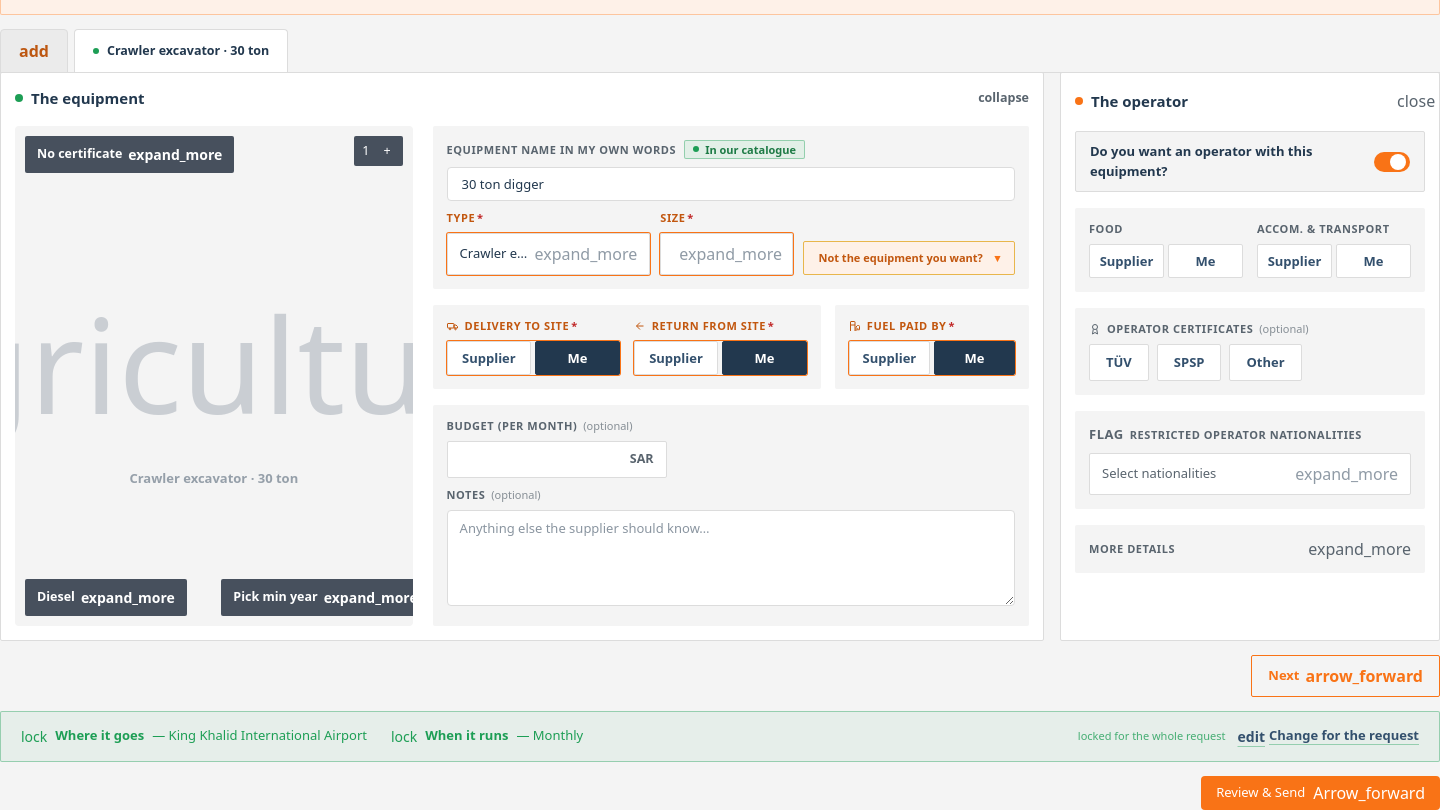
it: the operator rail, never opened › does not shake an item whose agent already asked for an operator
(page scrolled)
Click the button "Review & send arrow_forward": (1321, 792) [1201,776,1439,809]
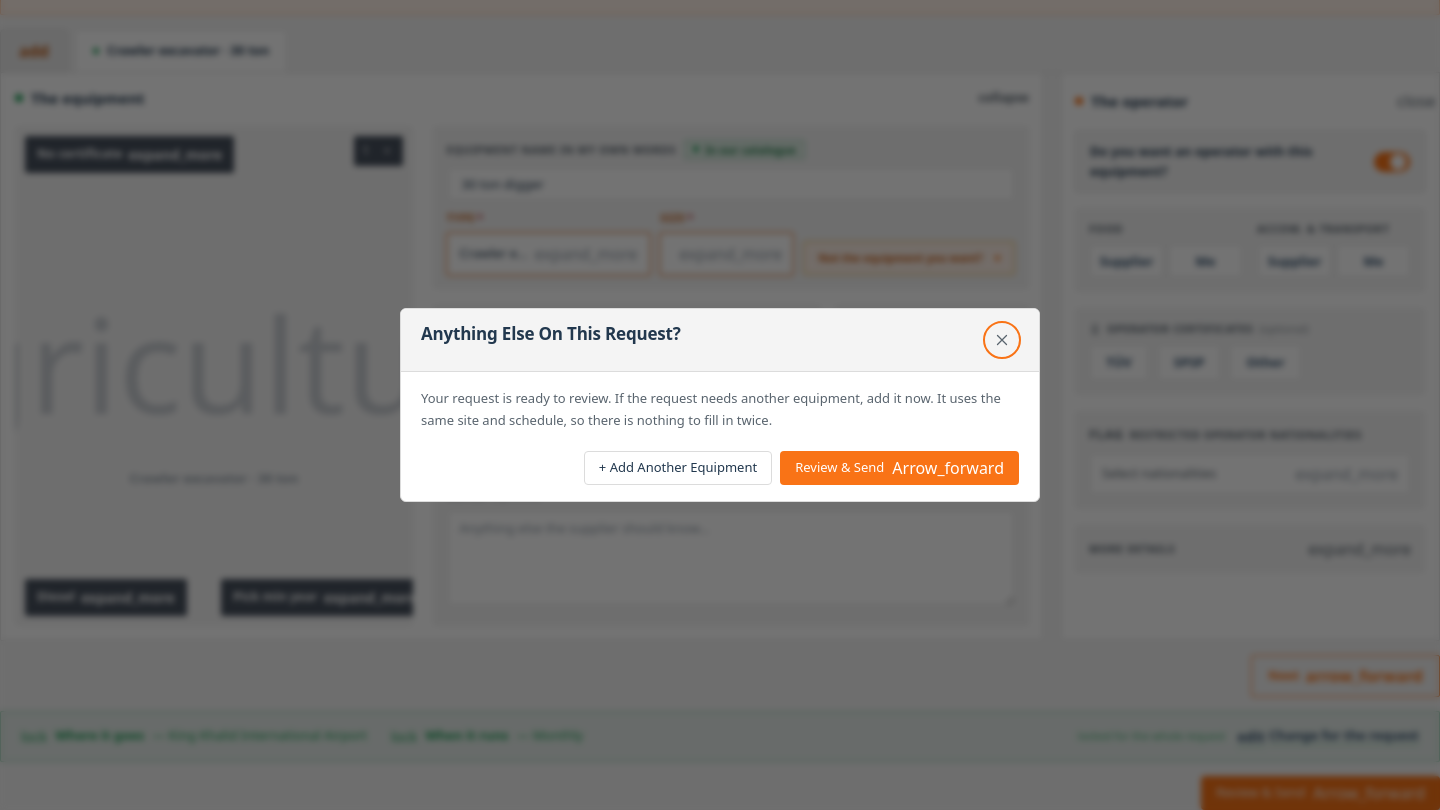
Expected: the heading "Anything else on this request?" is shown, [421,322,681,345]
